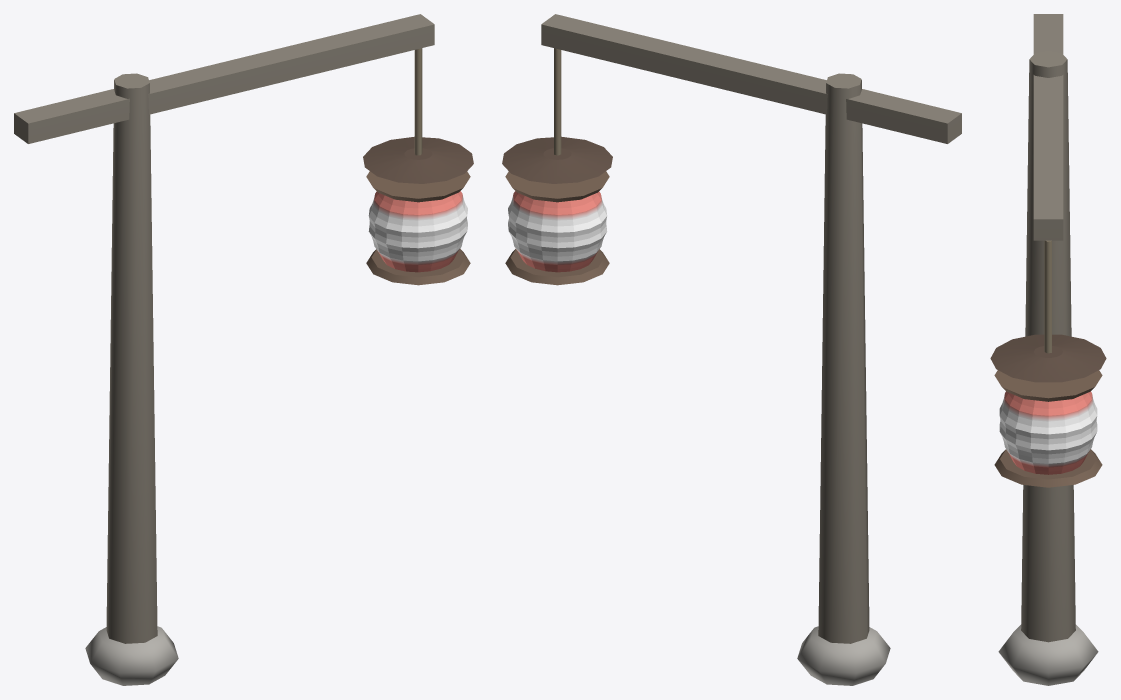
The model's file is lantern-pole.glb.
The picture shows the model from 3 angles, left to right: view 1: azimuth 30°, elevation 25°; view 2: azimuth 150°, elevation 25°; view 3: azimuth 270°, elevation 25°; orthographic projection. The views are drawn at different scales.
Visible parts, largest first — view 1: lantern-pole-frame, lantern-pole-paper; view 2: lantern-pole-frame, lantern-pole-paper; view 3: lantern-pole-frame, lantern-pole-paper.
Boxes of the visible parts, x1,y1,x2,y2 form: lantern-pole-frame: [14, 14, 473, 685]; lantern-pole-paper: [368, 191, 467, 272]; lantern-pole-frame: [502, 14, 961, 685]; lantern-pole-paper: [508, 191, 607, 272]; lantern-pole-frame: [990, 14, 1106, 685]; lantern-pole-paper: [999, 391, 1097, 474].
Bounding box in the file's own units: 3.61 × 4.64 × 0.7888.
